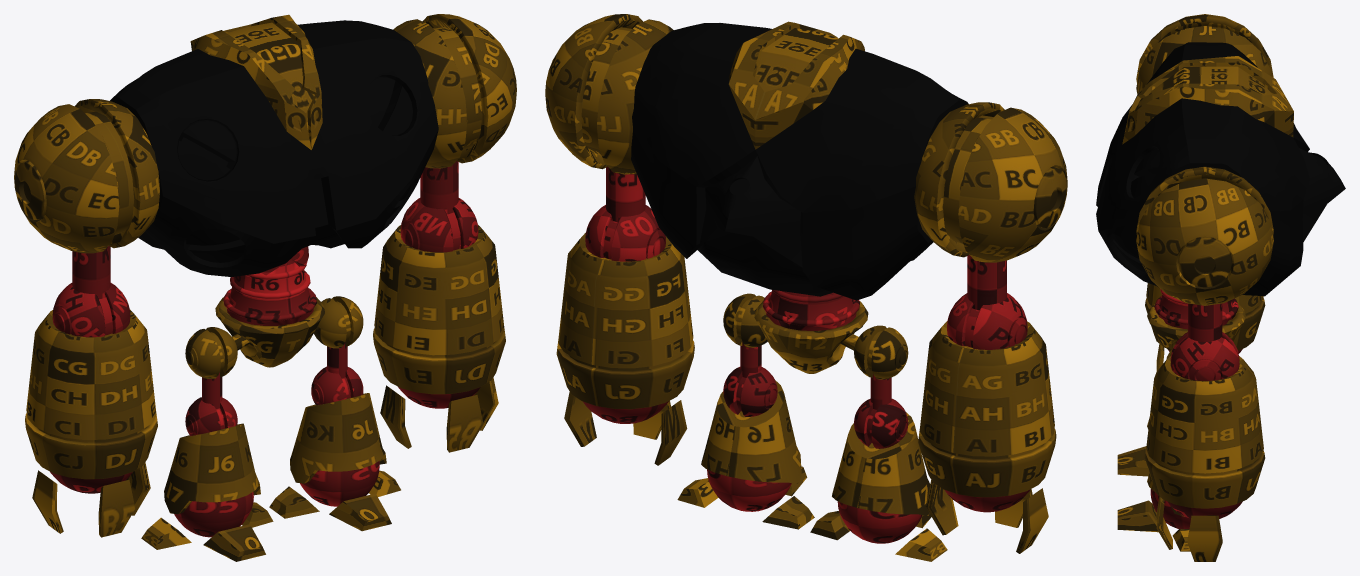
File: Robot_Texturing.obj
The picture shows the model from 3 angles, left to right: view 1: azimuth 30°, elevation 25°; view 2: azimuth 150°, elevation 25°; view 3: azimuth 270°, elevation 25°; orthographic projection. The views are drawn at different scales.
Parts seen in each view (by area): view 1: Torso Upper_Torso Upper_Torso Upper_Torso Upper_Torso, Right_Shoulder Right_Shoulder Right_Arm, Left_Arm Left_Forearm, Right_Arm Right_Forearm Right_Forearm, Left_Shoulder Left_Arm, Upper_Torso Upper_Torso Upper_Torso Upper_Torso Head, Right_Leg Right_Calf Right_Calf Right_Calf, Left_Leg left_Calf, Abs Lower_Torso, Lower_Torso Hips, Left_Arm Left_Elbow, Right_Arm Right_Elbow Right_Elbow (+20 smaller); view 2: Torso Upper_Torso Upper_Torso Upper_Torso Upper_Torso, Right_Shoulder Right_Shoulder Right_Arm, Right_Arm Right_Forearm Right_Forearm, Left_Arm Left_Forearm, Left_Shoulder Left_Arm, Upper_Torso Upper_Torso Upper_Torso Upper_Torso Head, Left_Leg left_Calf, Right_Leg Right_Calf Right_Calf Right_Calf, Lower_Torso Hips, Right_Arm Right_Elbow Right_Elbow, Left_Arm Left_Elbow, Abs Lower_Torso (+18 smaller); view 3: Torso Upper_Torso Upper_Torso Upper_Torso Upper_Torso, Left_Shoulder Left_Arm, Left_Arm Left_Forearm, Upper_Torso Upper_Torso Upper_Torso Upper_Torso Head, Right_Shoulder Right_Shoulder Right_Arm, Left_Arm Left_Elbow, Right_Arm Right_Forearm Right_Forearm, Left_Arm Left_Claw03, Left_Arm Left_Bicep, Abs Lower_Torso, Lower_Torso Hips, Left_Leg Left_FootClaw01 (+4 smaller).
Boxes of the visible parts, left/top/right/bottom form: Torso Upper_Torso Upper_Torso Upper_Torso Upper_Torso: left=110, top=20, right=438, bottom=276; Right_Shoulder Right_Shoulder Right_Arm: left=14, top=99, right=159, bottom=253; Left_Arm Left_Forearm: left=373, top=225, right=505, bottom=394; Right_Arm Right_Forearm Right_Forearm: left=25, top=309, right=157, bottom=479; Left_Shoulder Left_Arm: left=393, top=14, right=516, bottom=168; Upper_Torso Upper_Torso Upper_Torso Upper_Torso Head: left=190, top=14, right=322, bottom=149; Right_Leg Right_Calf Right_Calf Right_Calf: left=164, top=423, right=260, bottom=514; Left_Leg left_Calf: left=290, top=393, right=386, bottom=483; Abs Lower_Torso: left=223, top=246, right=316, bottom=325; Lower_Torso Hips: left=215, top=297, right=324, bottom=367; Left_Arm Left_Elbow: left=400, top=198, right=478, bottom=252; Right_Arm Right_Elbow Right_Elbow: left=52, top=283, right=130, bottom=337; Torso Upper_Torso Upper_Torso Upper_Torso Upper_Torso: left=631, top=23, right=968, bottom=300; Right_Shoulder Right_Shoulder Right_Arm: left=914, top=102, right=1067, bottom=262; Right_Arm Right_Forearm Right_Forearm: left=918, top=321, right=1056, bottom=497; Left_Arm Left_Forearm: left=556, top=232, right=694, bottom=409; Left_Shoulder Left_Arm: left=545, top=14, right=673, bottom=174; Upper_Torso Upper_Torso Upper_Torso Upper_Torso Head: left=728, top=21, right=864, bottom=149; Left_Leg left_Calf: left=701, top=380, right=801, bottom=483; Right_Leg Right_Calf Right_Calf Right_Calf: left=832, top=412, right=930, bottom=515; Lower_Torso Hips: left=754, top=301, right=868, bottom=373; Right_Arm Right_Elbow Right_Elbow: left=947, top=293, right=1027, bottom=349; Left_Arm Left_Elbow: left=585, top=205, right=665, bottom=261; Abs Lower_Torso: left=763, top=289, right=859, bottom=330; Torso Upper_Torso Upper_Torso Upper_Torso Upper_Torso: left=1096, top=42, right=1345, bottom=296; Left_Shoulder Left_Arm: left=1136, top=166, right=1273, bottom=305; Left_Arm Left_Forearm: left=1145, top=356, right=1265, bottom=508; Upper_Torso Upper_Torso Upper_Torso Upper_Torso Head: left=1122, top=56, right=1293, bottom=144; Right_Shoulder Right_Shoulder Right_Arm: left=1136, top=14, right=1273, bottom=94; Left_Arm Left_Elbow: left=1170, top=332, right=1239, bottom=380; Right_Arm Right_Forearm Right_Forearm: left=1145, top=283, right=1265, bottom=350; Left_Arm Left_Claw03: left=1187, top=515, right=1222, bottom=561; Left_Arm Left_Bicep: left=1188, top=303, right=1222, bottom=341; Abs Lower_Torso: left=1154, top=289, right=1238, bottom=329; Lower_Torso Hips: left=1147, top=304, right=1245, bottom=350; Left_Leg Left_FootClaw01: left=1117, top=500, right=1158, bottom=532.
Bounding box in the file's own units: 4.33 × 4.08 × 2.17.
